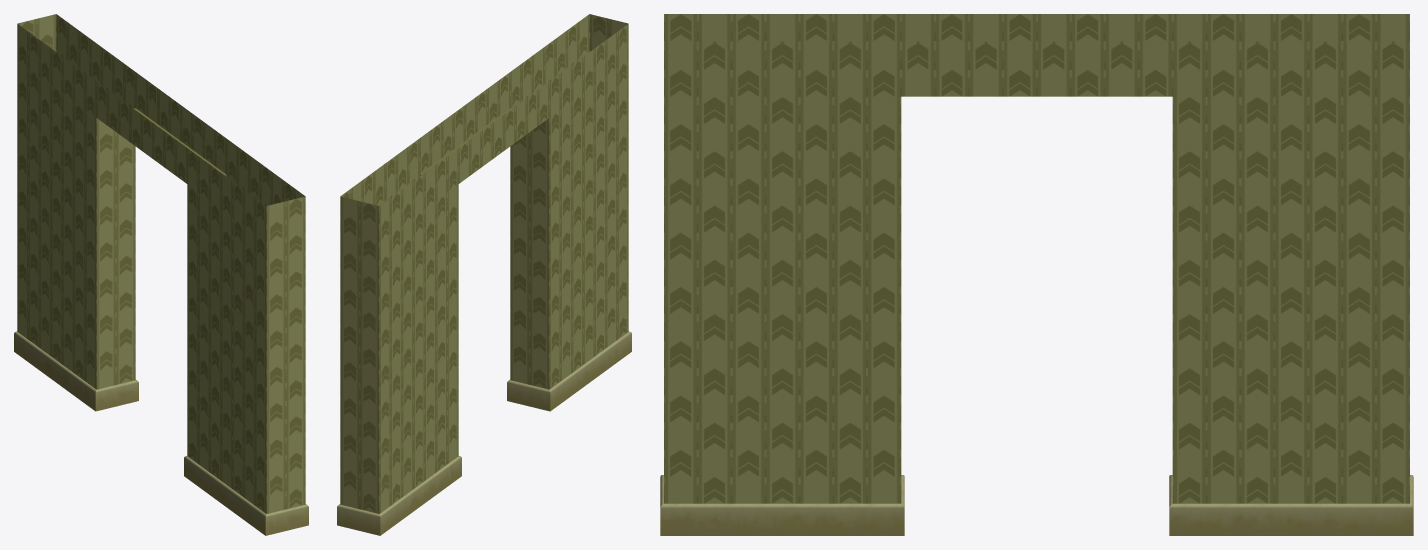
Rendered from WallLeftWithHole.fbx.
3 views of the same model, side by side, from view 1: azimuth 30°, elevation 25°; view 2: azimuth 150°, elevation 25°; view 3: azimuth 270°, elevation 25° (orthographic). The views are drawn at different scales.
Visible parts, largest first — view 1: WallLeftWithHole; view 2: WallLeftWithHole; view 3: WallLeftWithHole.
Part boxes in pixels (x1,y1,x2,y2): WallLeftWithHole: (14,14,308,535); WallLeftWithHole: (337,14,631,535); WallLeftWithHole: (660,14,1413,535).
Size of the model in its own units: 55 by 400 by 555.
